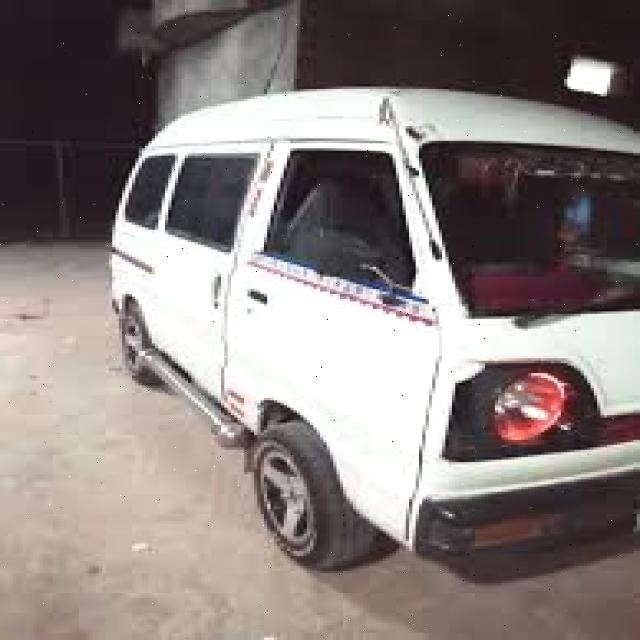Van: (109, 84, 640, 591)
